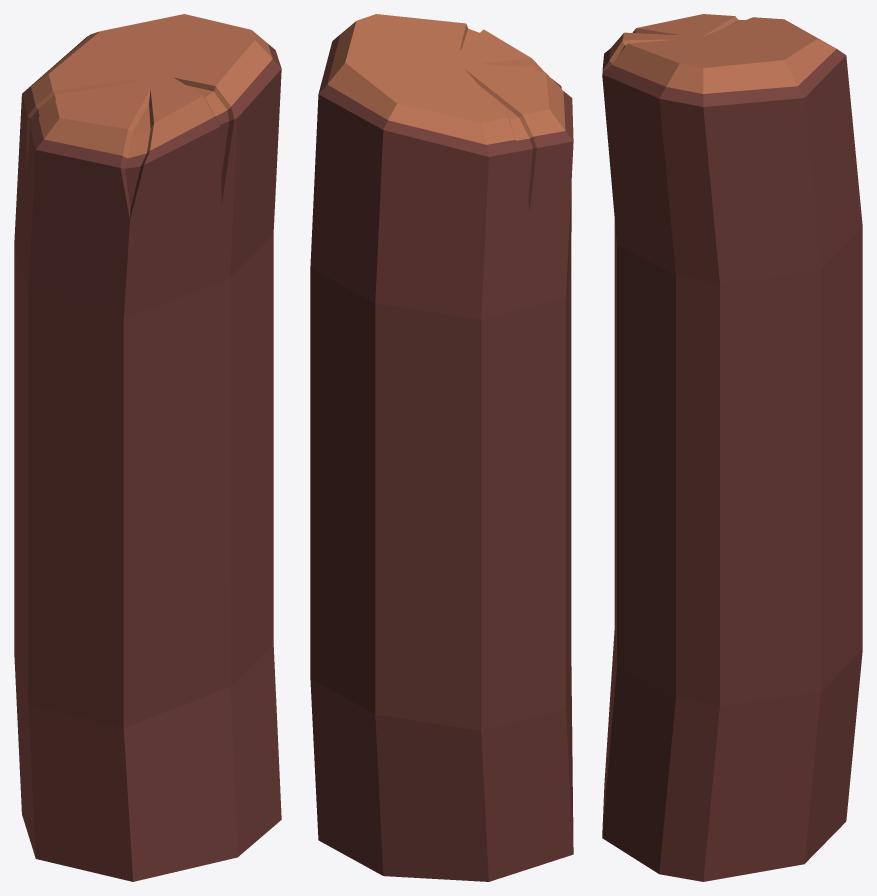
The model's file is Wooden Pole Blunt 04.fbx.
3 renders of one model, left to right at view 1: azimuth 30°, elevation 25°; view 2: azimuth 150°, elevation 25°; view 3: azimuth 270°, elevation 25°, orthographic. The views are drawn at different scales.
Parts seen in each view (by area): view 1: Wooden Pole Blunt 04; view 2: Wooden Pole Blunt 04; view 3: Wooden Pole Blunt 04.
Part boxes in pixels (x1,y1,x2,y2): Wooden Pole Blunt 04: [14, 14, 281, 881]; Wooden Pole Blunt 04: [310, 14, 573, 881]; Wooden Pole Blunt 04: [602, 14, 862, 881].
Bounding box in the file's own units: 32.75 × 101 × 29.84.
